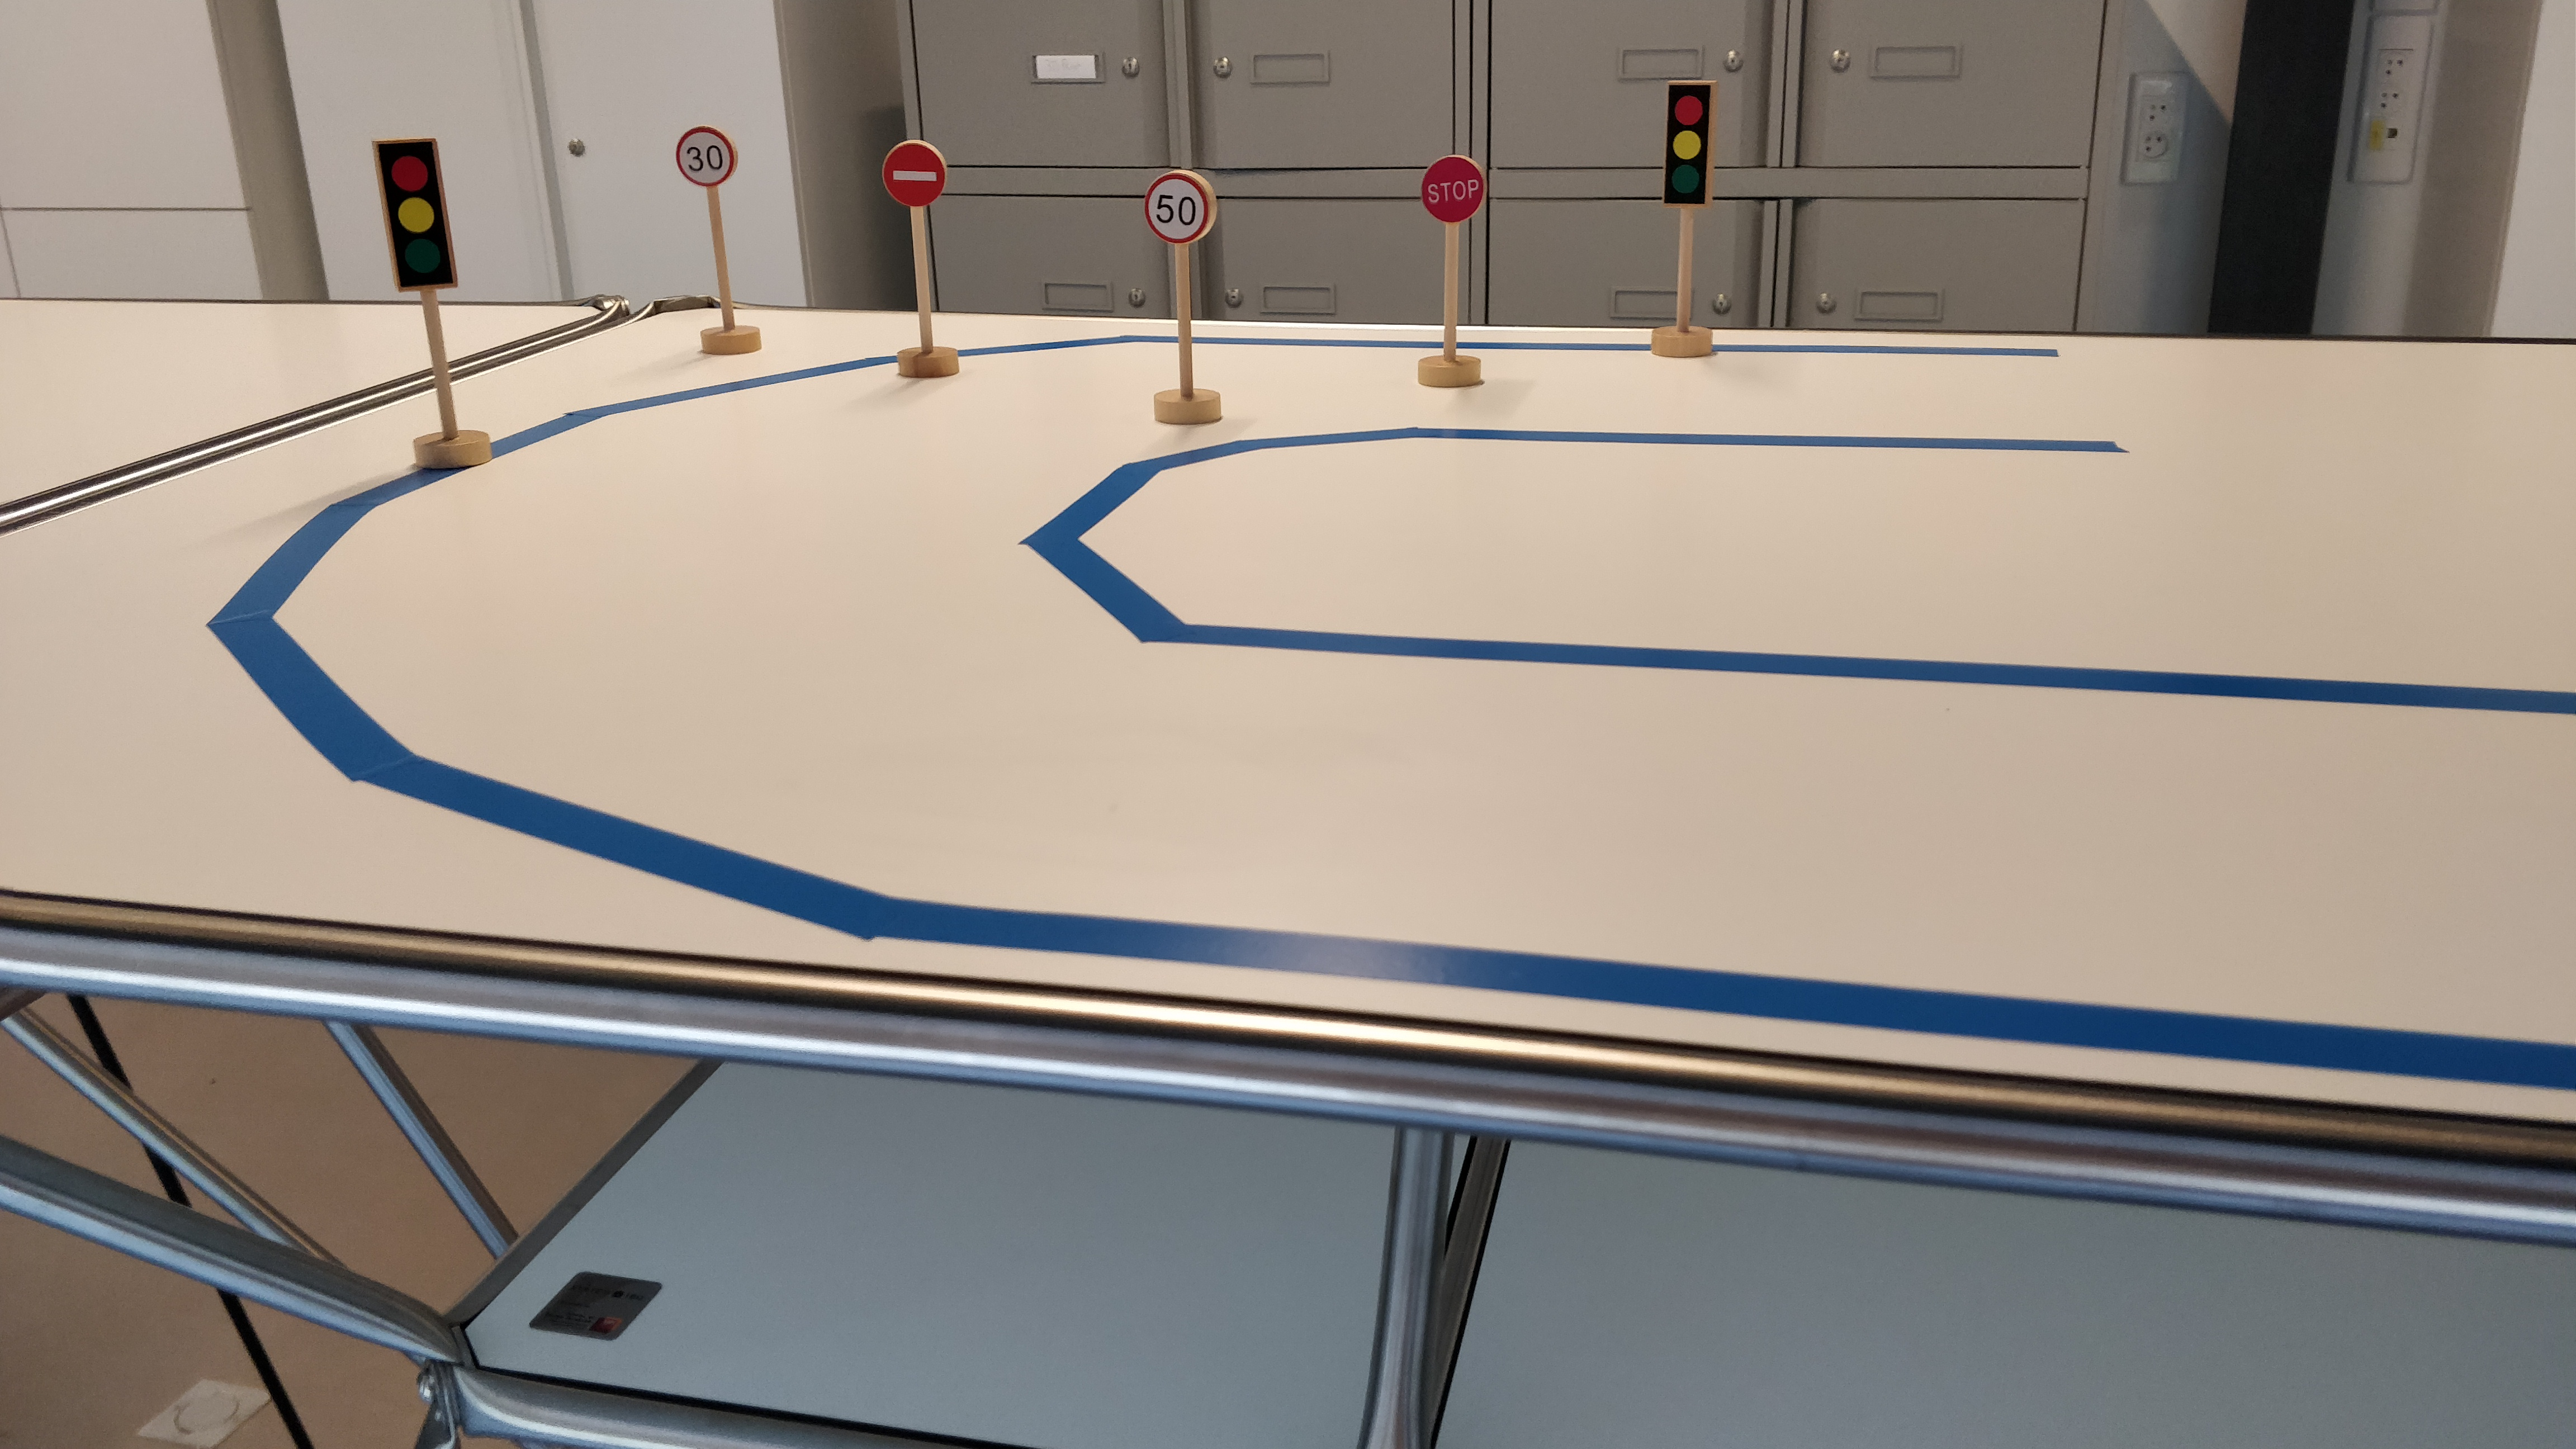Prohibition Sign: (879, 139, 948, 207)
Speed Limit 30: (671, 124, 740, 187)
Speed Limit 50: (1145, 168, 1219, 248)
Stop Sign: (1417, 153, 1488, 228)
Traffic Light: (369, 135, 458, 295), (1658, 75, 1720, 214)
